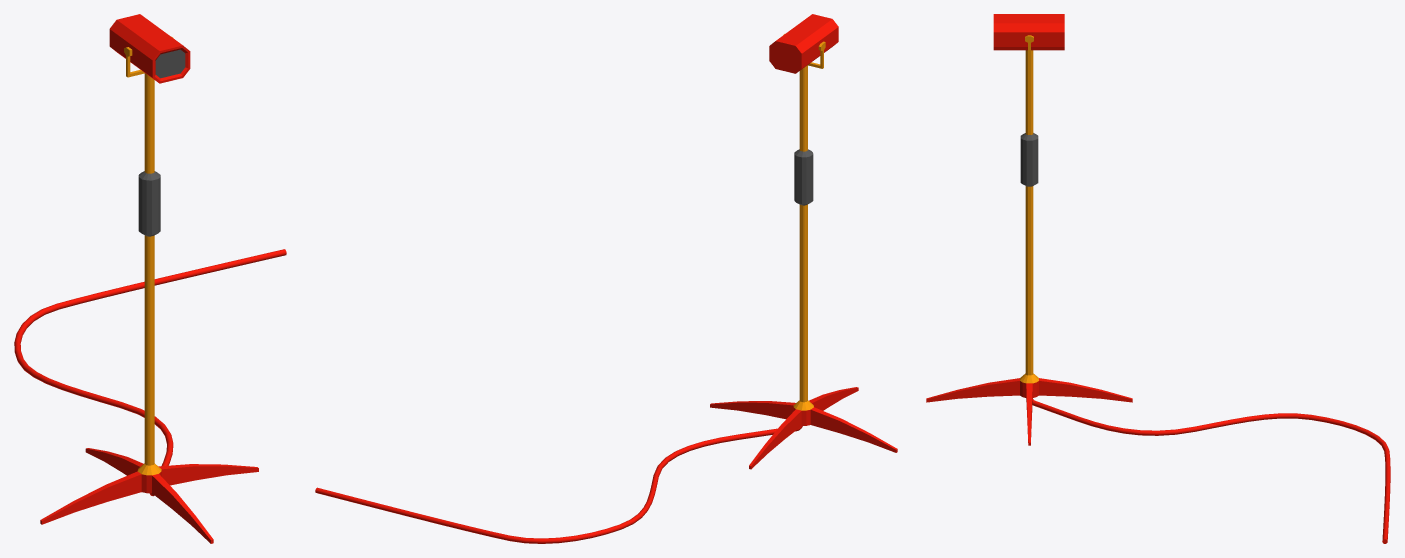
3 views of the same model, side by side, from view 1: azimuth 30°, elevation 25°; view 2: azimuth 150°, elevation 25°; view 3: azimuth 270°, elevation 25° (orthographic). The views are drawn at different scales.
Visible parts, largest first — view 1: Box004, Box005, Line002; view 2: Box004, Line002, Box005; view 3: Box004, Line002, Box005.
Part boxes in pixels (x1=…): Box004: x1=40, y1=36, x2=258, y2=543; Box005: x1=109, y1=14, x2=190, y2=83; Line002: x1=14, y1=249, x2=286, y2=496; Box004: x1=710, y1=34, x2=897, y2=469; Line002: x1=315, y1=426, x2=802, y2=543; Box005: x1=769, y1=14, x2=838, y2=73; Box004: x1=926, y1=35, x2=1132, y2=445; Line002: x1=1032, y1=398, x2=1390, y2=543; Box005: x1=993, y1=14, x2=1064, y2=50.
Size of the model in its own units: 123 by 119 by 130.
